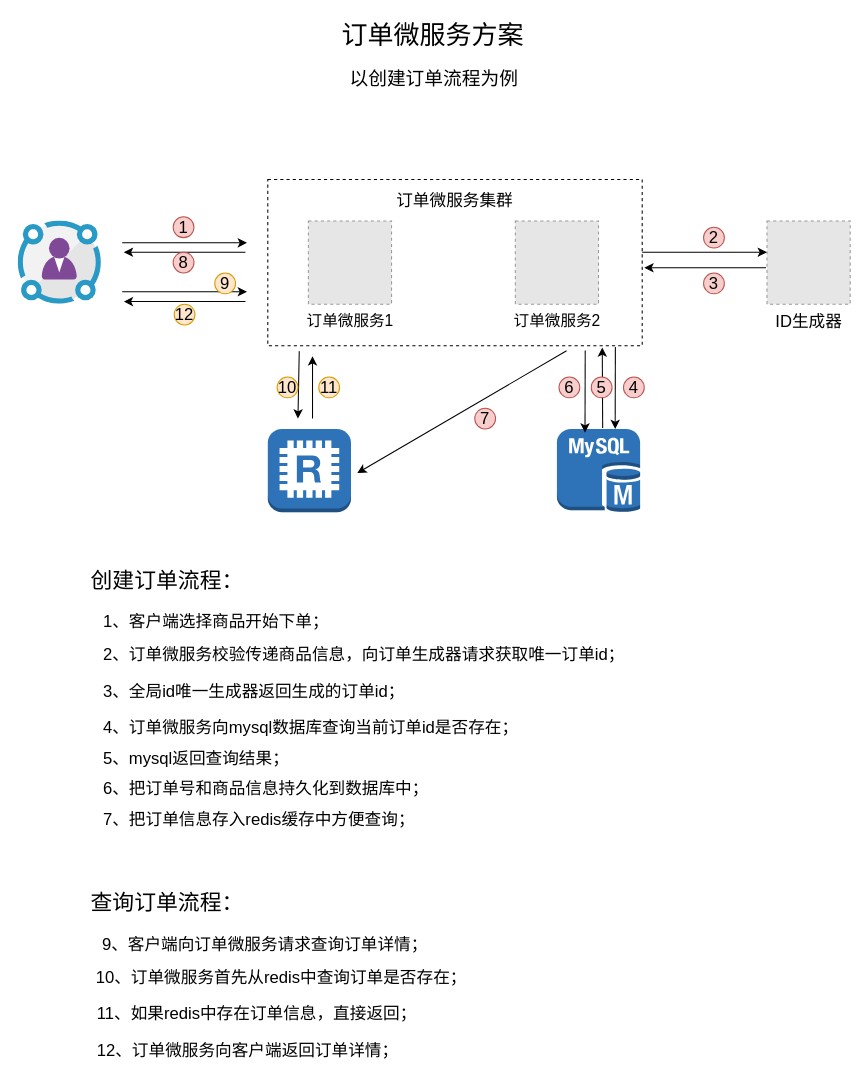
The diagram is 868 pixels wide and 1083 high, and some of its shapes have lost their labels. Grey dashed boxes stand in for pictures. Here are the shapes that lost their labels. From the top down, the centre of each, then its label:
At (59,262): "客户端".
At (309,470): "Redis".
At (598,470): "数据库".
